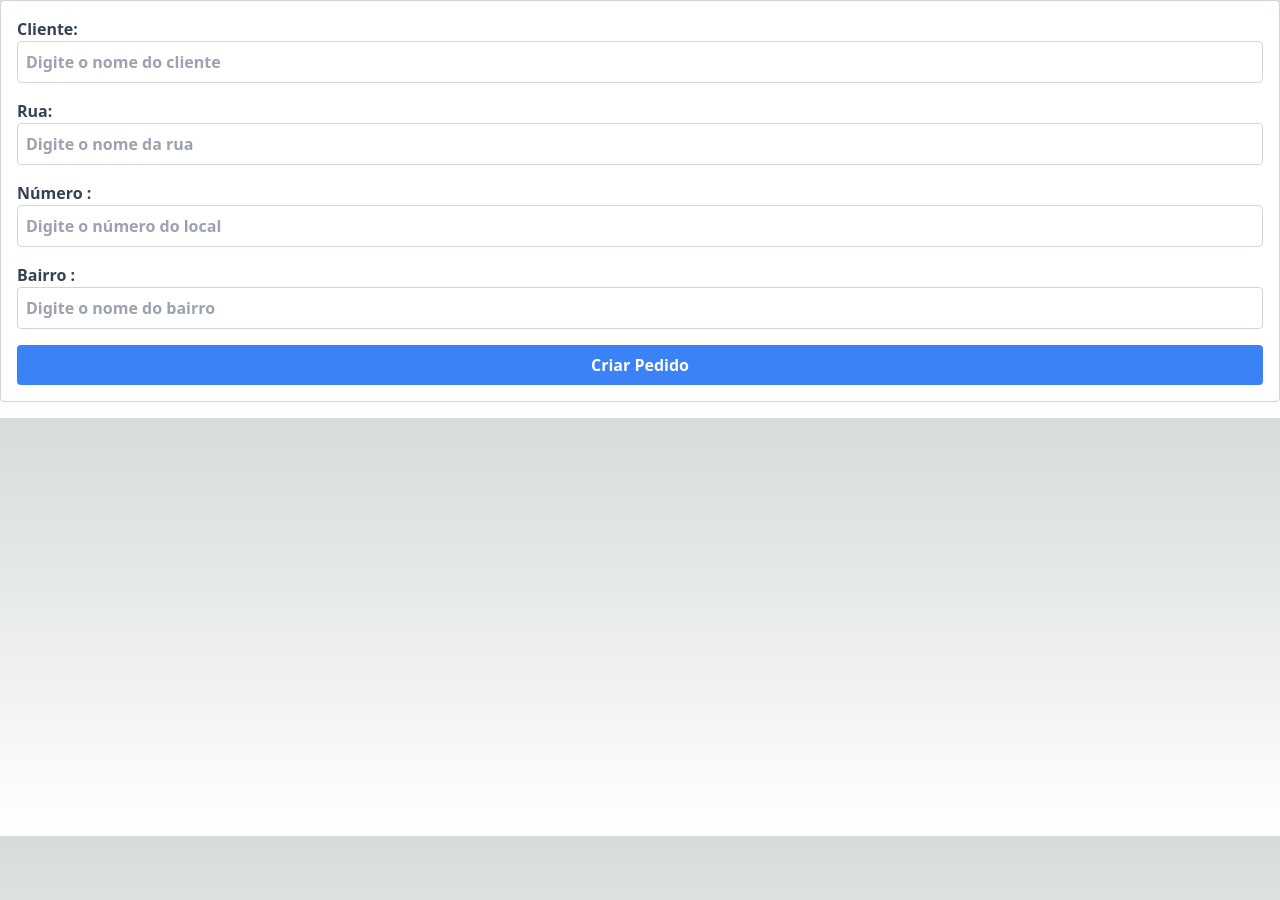
Test: OrderForm Component › displays error messages for empty fields
Click the button "Criar Pedido".
click(640, 365)  # box [17,345,1263,385]
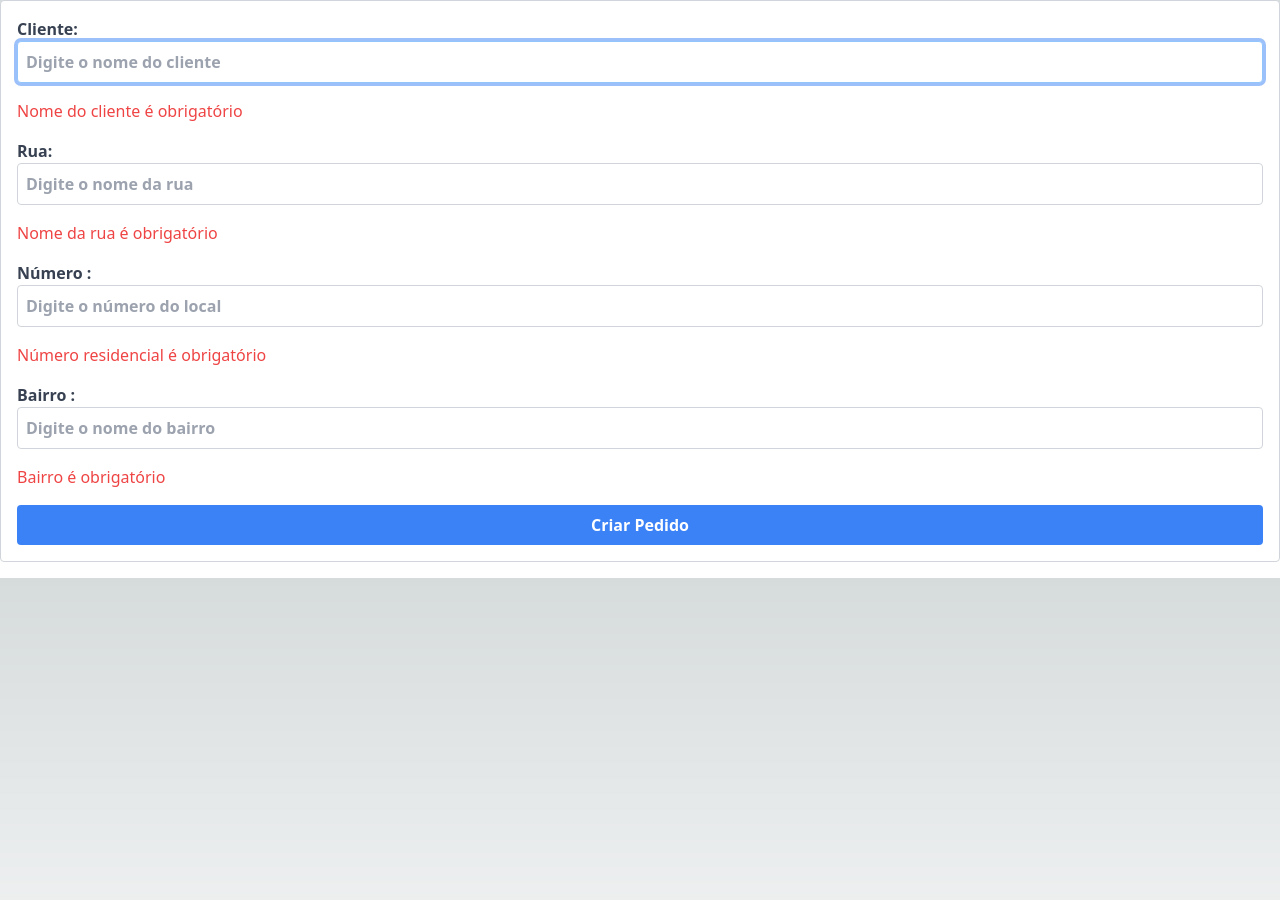
Now the text "Nome do cliente é obrigatório" is shown, box [17,100,243,122]
Now the text "Nome da rua é obrigatório" is shown, box [17,222,218,244]
Now the text "Número residencial é obrigatório" is shown, box [17,344,266,366]
